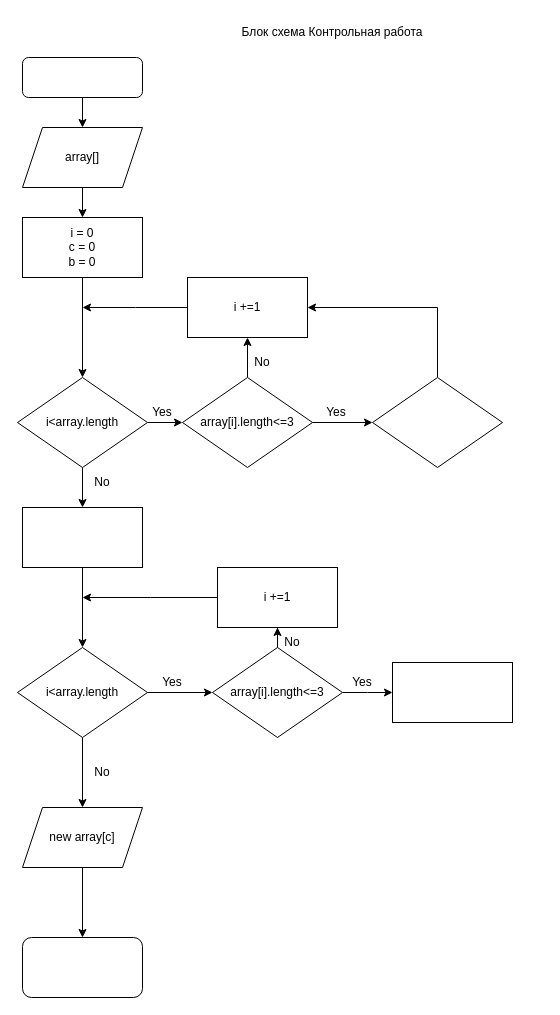
Image size: 560x1015. Some labels were removed from this diagram. Here are the shapes that lost their labels. From the top down, the centre of each, then its label:
At point (82, 77): "Start".
At point (437, 422): "c +=1".
At point (82, 537): "new array[c] i = 0".
At point (452, 692): "new array[b] = array[i] b +=1".
At point (82, 967): "End".
